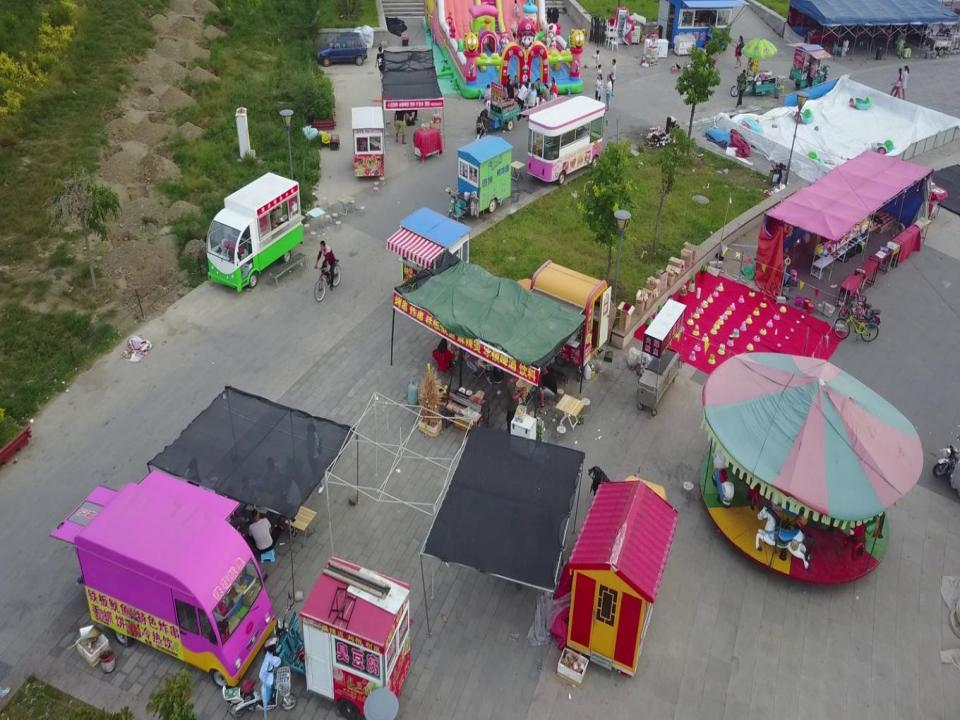car: (316, 31, 368, 67)
truck: (49, 470, 276, 688), (206, 171, 305, 292)
